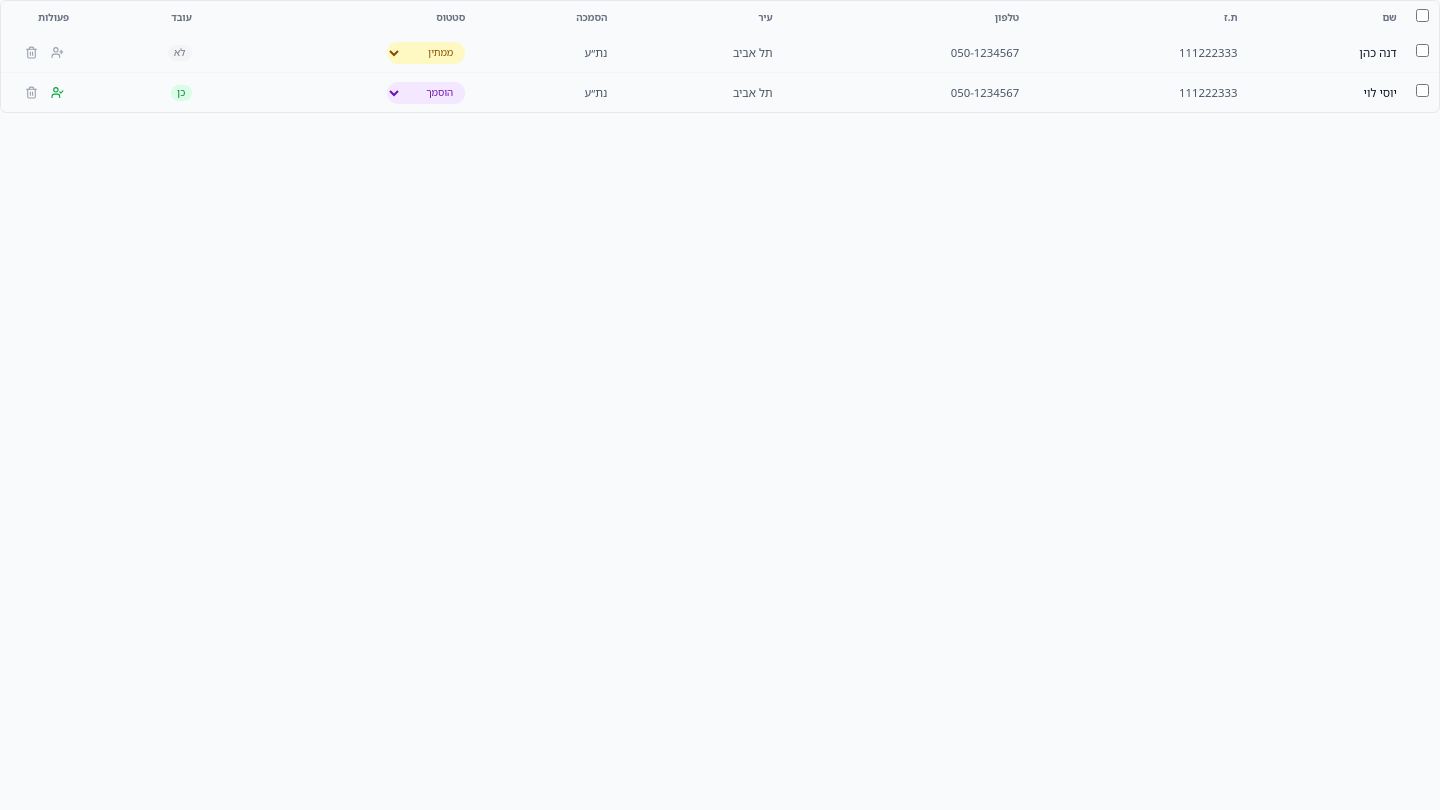
Test: CandidatesTable — success banner and auto-dismiss › shows combined message when bulk action returns already_employee count
Click the checkbox named "בחר דנה כהן" at (1423, 51), box [1416,44,1429,57]
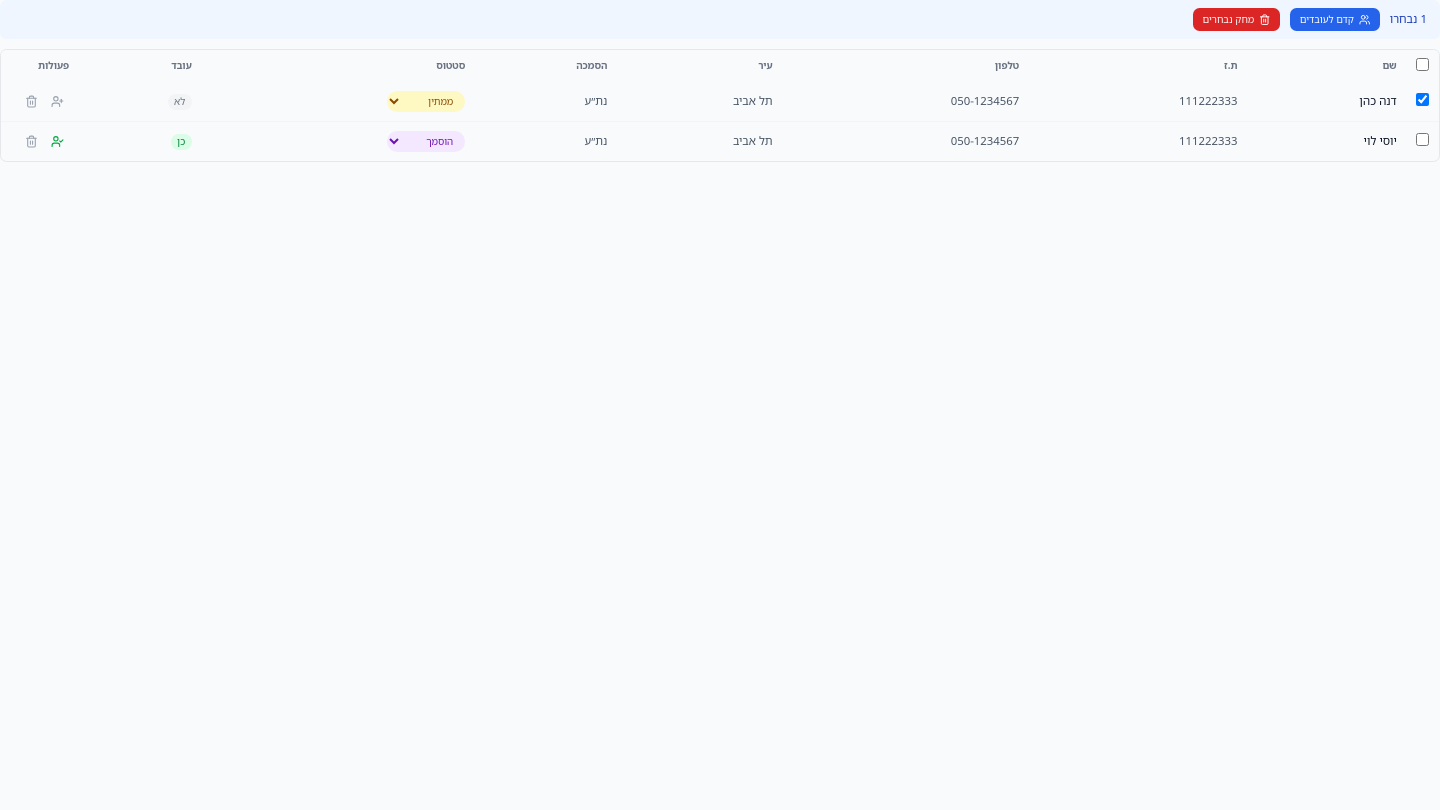
Click the checkbox named "בחר יוסי לוי" at (1423, 139), box [1416,133,1429,146]
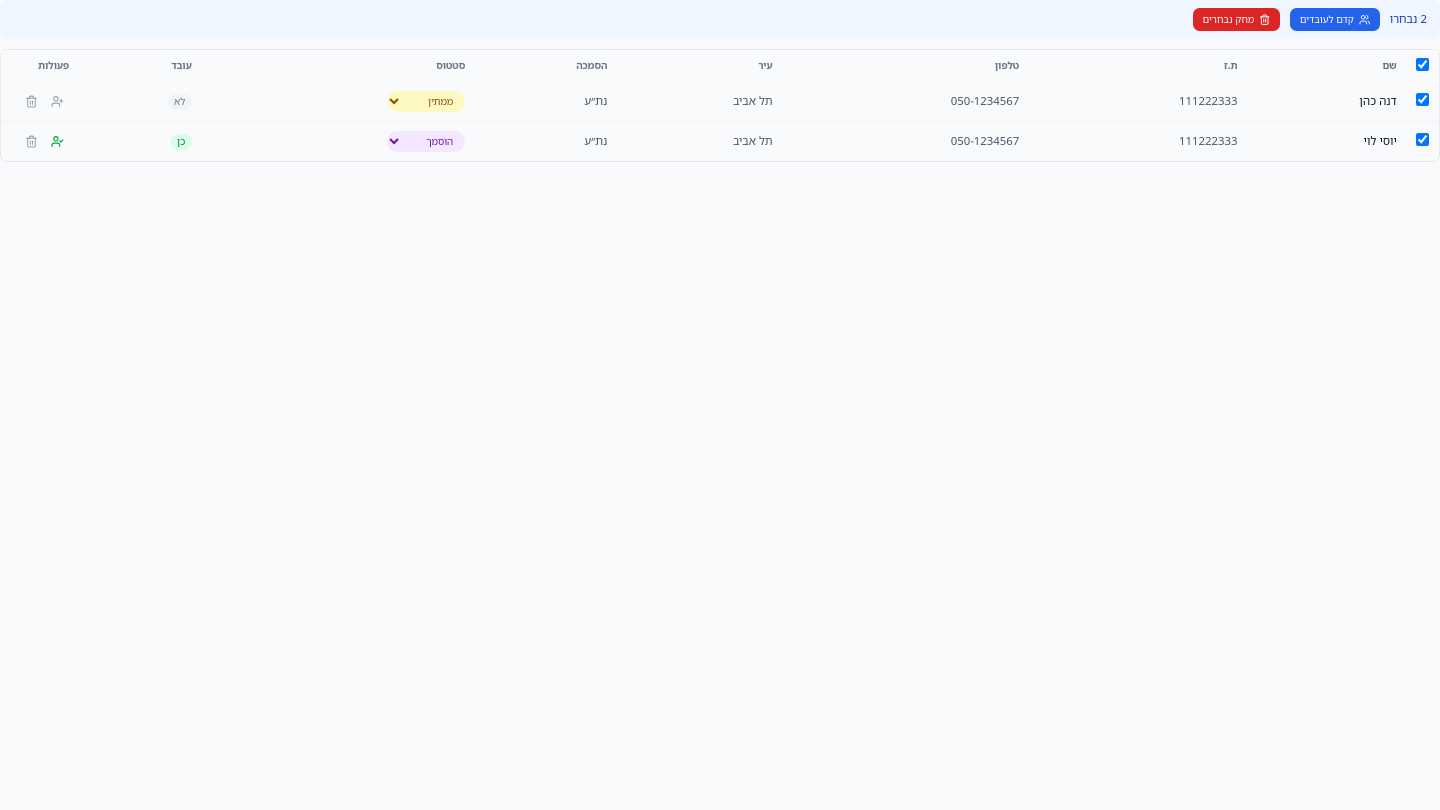
Click the button "קדם לעובדים" at (1335, 20), box [1290,8,1380,31]
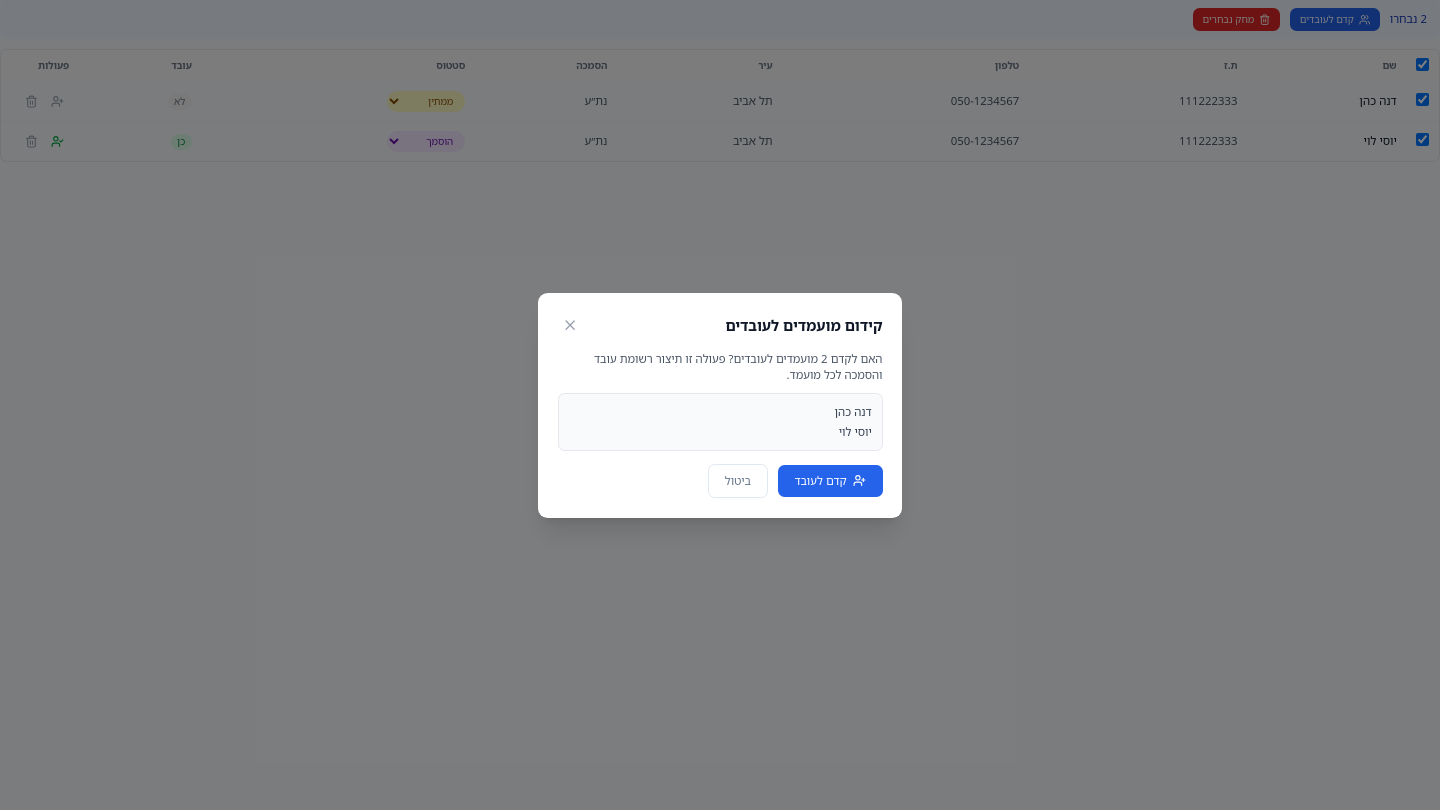
Click the button "קדם לעובד" at (830, 481), box [778,464,882,497]
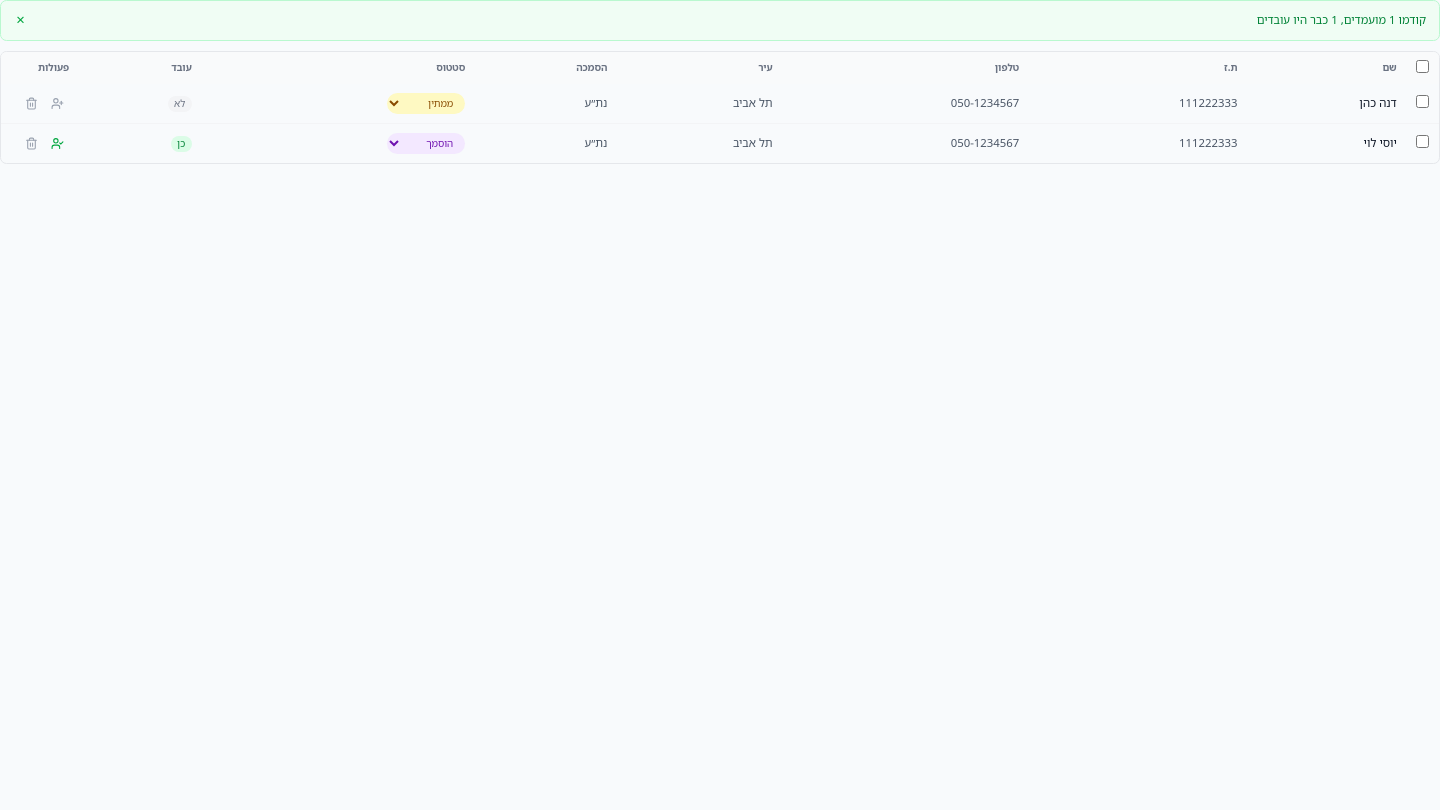
Result: the message shows "1 כבר היו עובדים" at [1257,12,1426,27]
